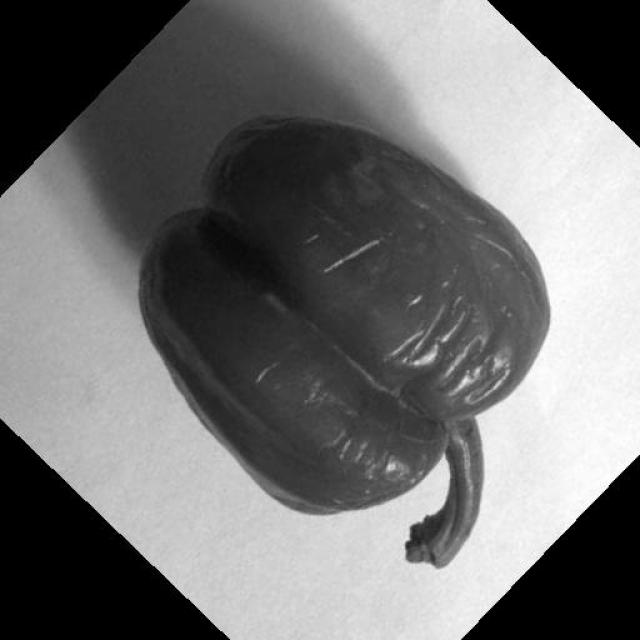Stale_Capsicum: (150, 120, 525, 523)
